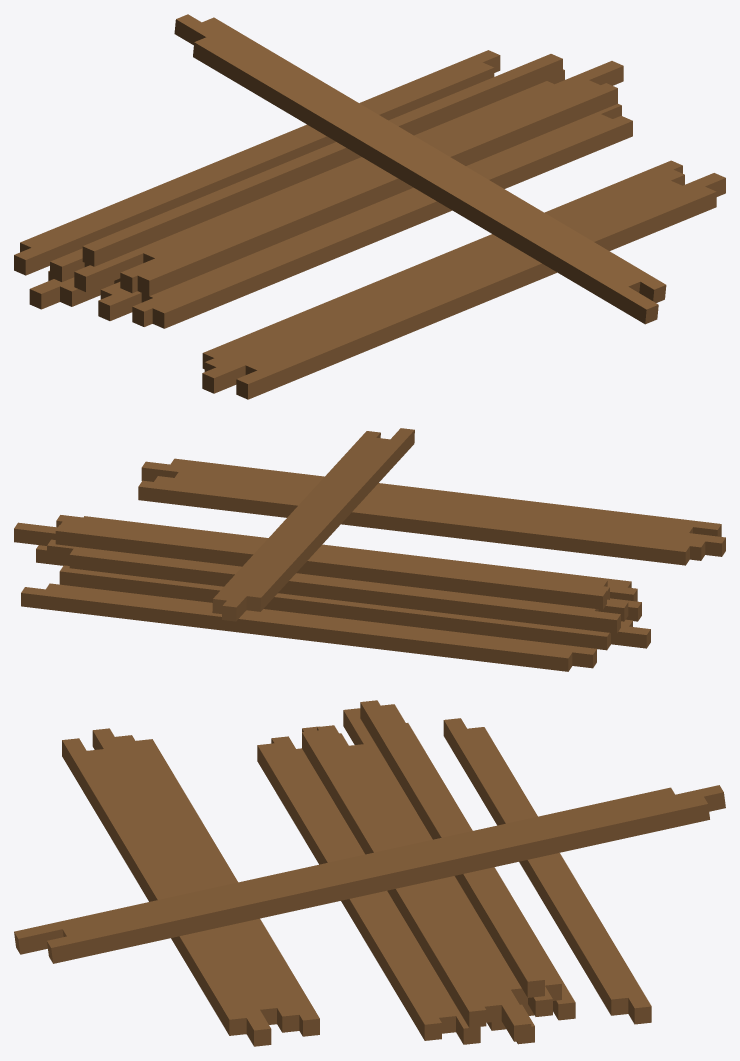
The model's file is Tablas.fbx.
3 views of the same model, one above another, from view 1: azimuth 30°, elevation 25°; view 2: azimuth 150°, elevation 25°; view 3: azimuth 270°, elevation 25° (orthographic). The views are drawn at different scales.
Parts seen in each view (by area): view 1: Tablas; view 2: Tablas; view 3: Tablas.
Boxes of the visible parts, x1,y1,x2,y2 form: Tablas: (14, 14, 725, 399); Tablas: (14, 428, 725, 671); Tablas: (14, 700, 725, 1046).
Size of the model in its own units: 122580 by 16191 by 109944.
